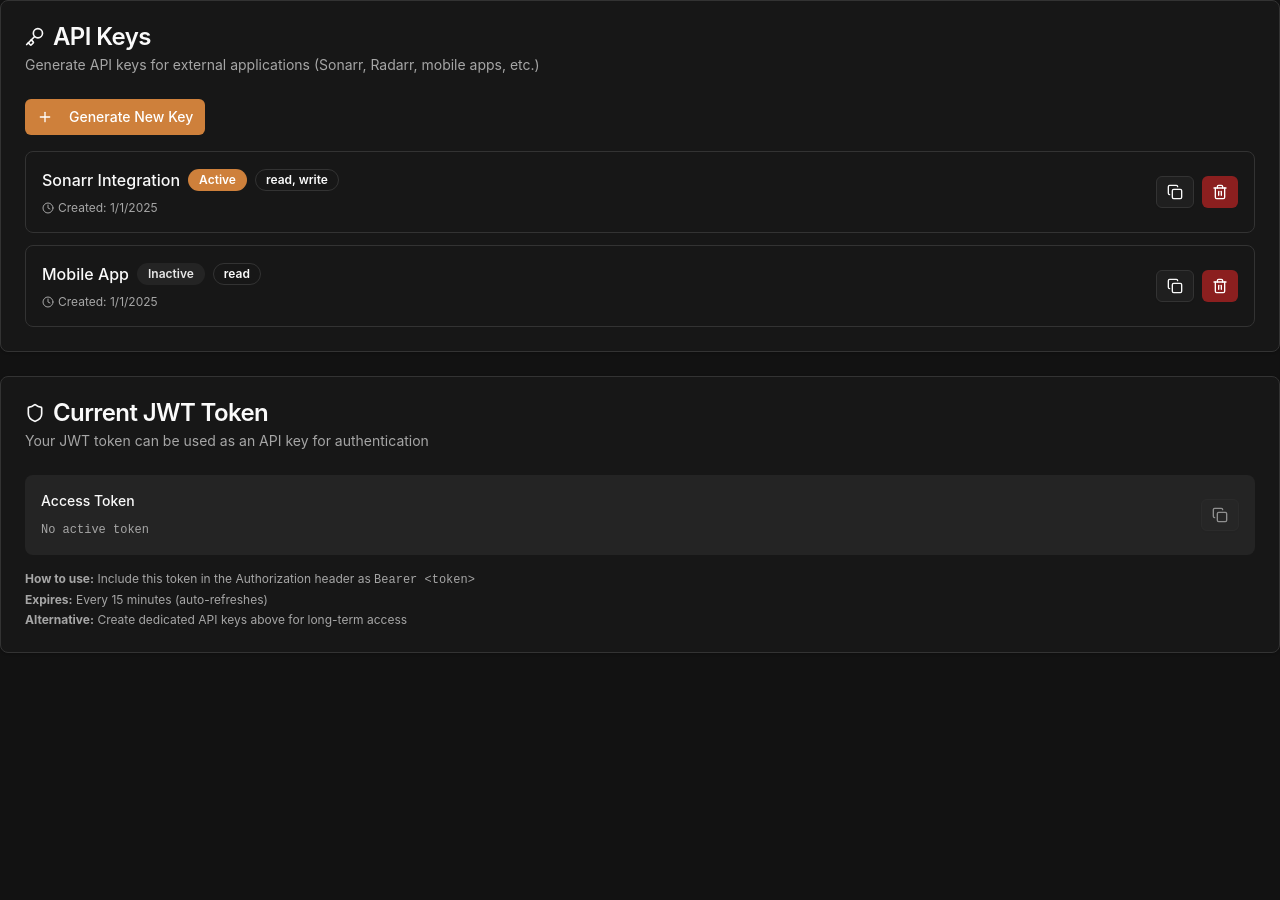
Test case: ApiKeySettings › cancels key creation
What coordinates should you click on to do the following:
click the button "Generate New Key"
I would click on:
 (115, 117)
Its box is [25,99,205,135].
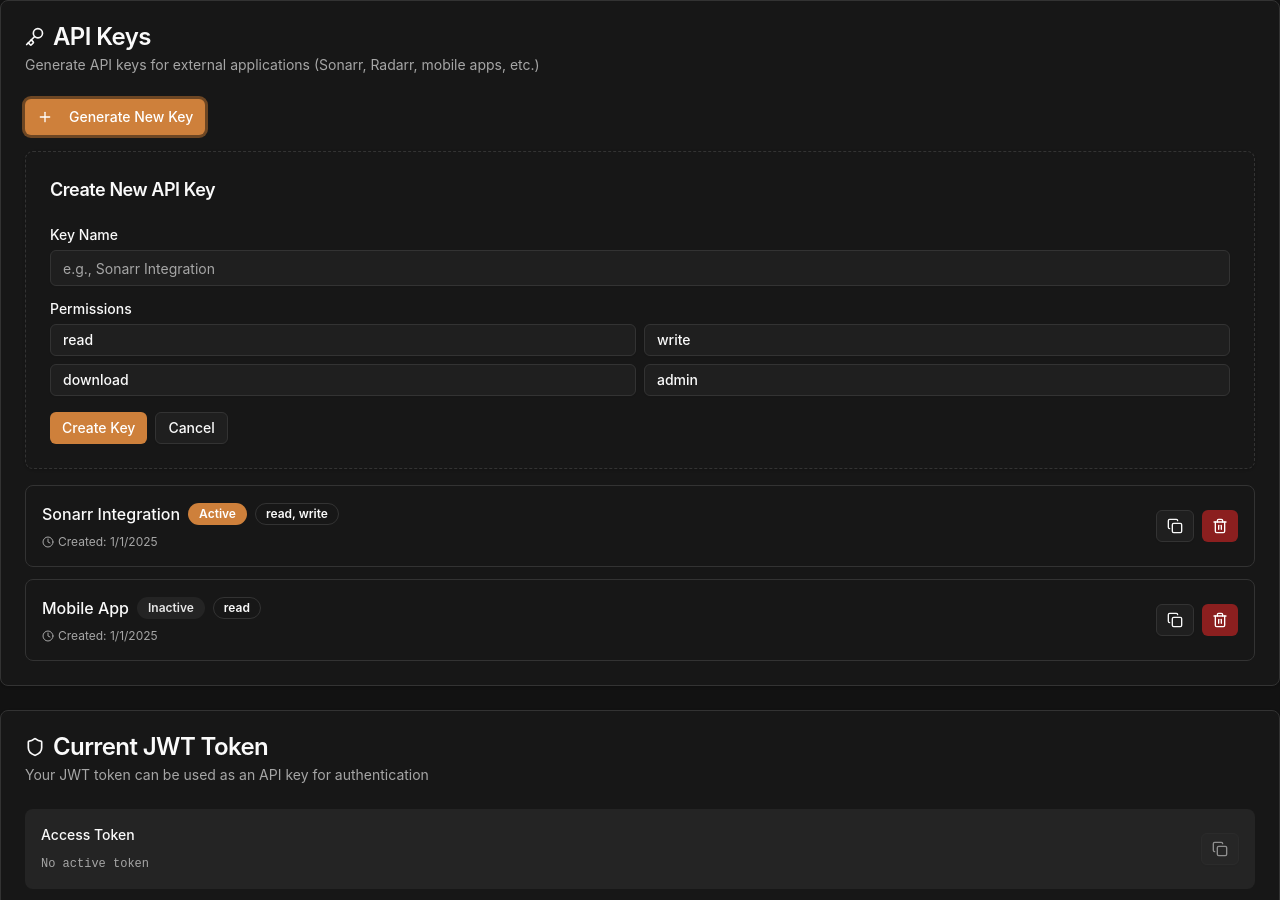
What coordinates should you click on to do the following:
click the button "Cancel"
I would click on:
 (192, 428)
Its box is [155,412,228,444].
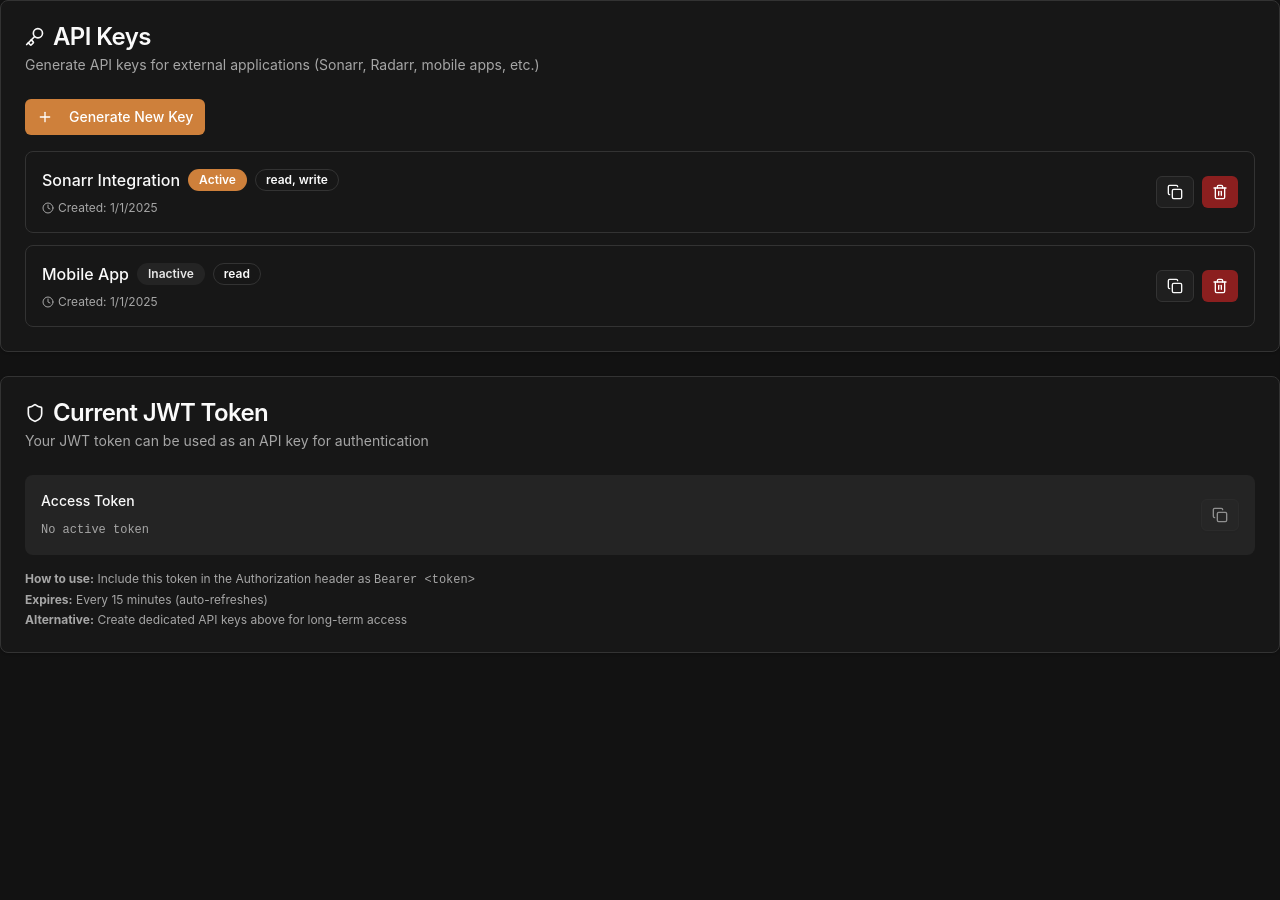
Check: the label labelled "Key Name" is gone
